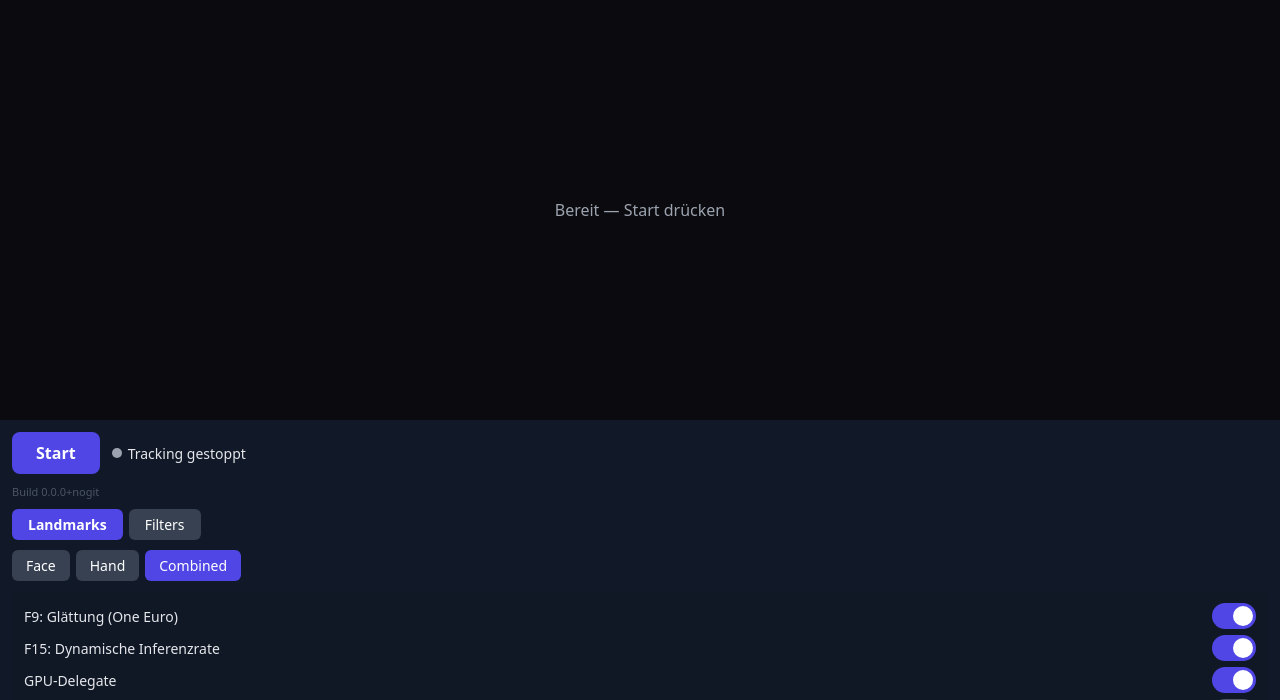
Test: CameraScreen session › reports a start that fails and leaves the camera off
Expected: the text "Bereit — Start drücken" is shown, [555,199,725,221]
Click the button "Start" at (56, 453), box [12,432,100,474]
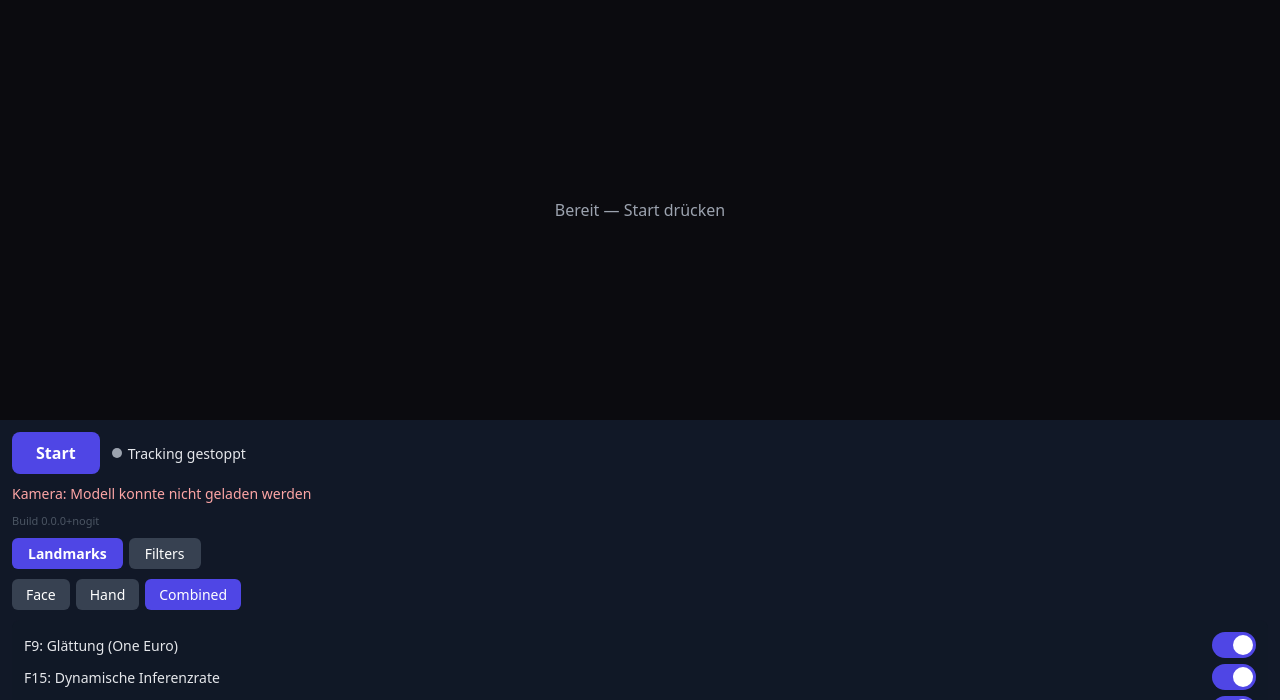
Result: the text "Kamera: Modell konnte nicht geladen werden" is shown at [12,484,311,503]
